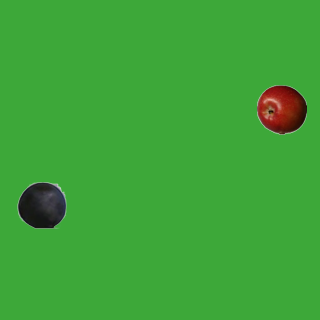Apple Braeburn: (256, 84, 306, 134)
Grape Blue: (16, 179, 66, 229)
